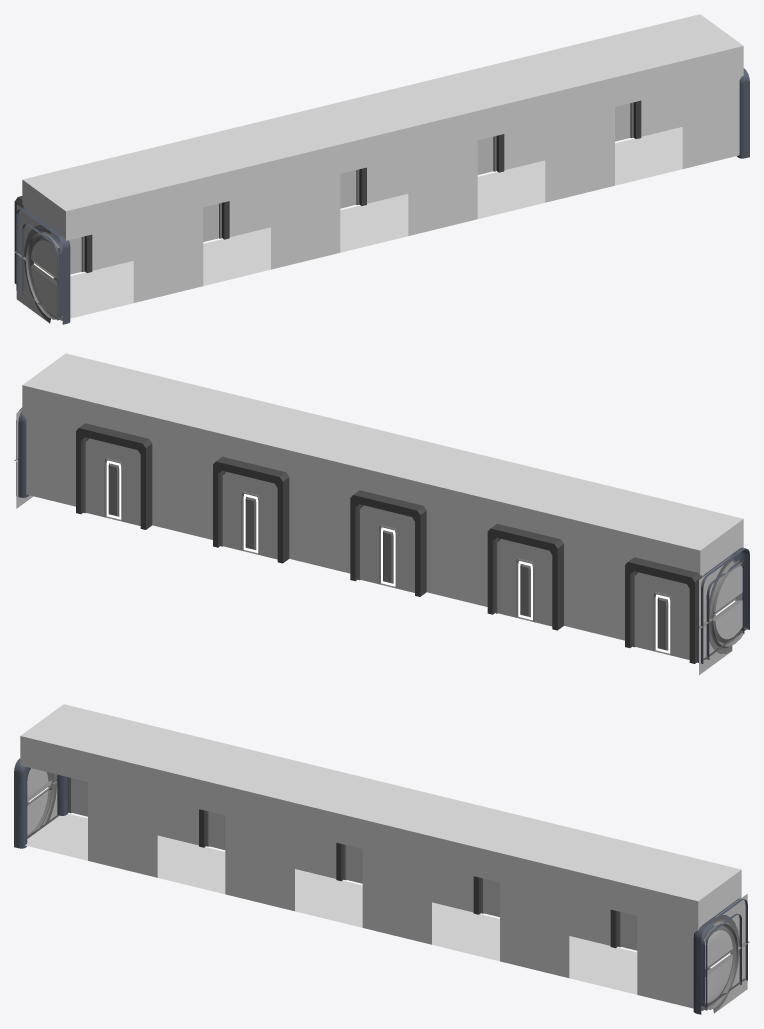
Rendered from Hall_03_Group.fbx.
3 renders of one model, top to bottom at view 1: azimuth 30°, elevation 25°; view 2: azimuth 150°, elevation 25°; view 3: azimuth 330°, elevation 25°, orthographic.
Visible parts, largest first — view 1: polySurface623, Hall_03, Hall_Door (×5), Door_Frame (×2), Door_01, Door_02, Hall_Door_Frame, Door_03; view 2: polySurface623, Hall_Door (×5), Hall_Door_Frame (×5), Door_Frame (×2), Door_01, Door_02, Door_03; view 3: polySurface623, Hall_03, Door_Frame (×2), Door_01 (×2), Hall_Door (×5), Door_02, Door_03.
Part boxes in pixels (x1=…): polySurface623: x1=22, y1=14, x2=743, y2=302; Hall_03: x1=18, y1=127, x2=682, y2=320; Hall_Door (×5): x1=69, y1=102, x2=633, y2=274; Door_Frame (×2): x1=16, y1=68, x2=749, y2=324; Door_01: x1=26, y1=233, x2=60, y2=319; Door_02: x1=14, y1=204, x2=50, y2=260; Hall_Door_Frame: x1=14, y1=196, x2=92, y2=283; Door_03: x1=15, y1=252, x2=50, y2=323; polySurface623: x1=22, y1=353, x2=743, y2=640; Hall_Door (×5): x1=83, y1=437, x2=689, y2=659; Hall_Door_Frame (×5): x1=76, y1=423, x2=702, y2=663; Door_Frame (×2): x1=16, y1=407, x2=749, y2=663; Door_01: x1=713, y1=560, x2=744, y2=646; Door_02: x1=699, y1=556, x2=734, y2=628; Door_03: x1=699, y1=620, x2=733, y2=674; polySurface623: x1=20, y1=704, x2=741, y2=1008; Hall_03: x1=25, y1=813, x2=745, y2=1010; Door_Frame (×2): x1=14, y1=758, x2=747, y2=1014; Door_01 (×2): x1=27, y1=768, x2=737, y2=1009; Hall_Door (×5): x1=69, y1=777, x2=637, y2=950; Door_02: x1=713, y1=894, x2=749, y2=950; Door_03: x1=713, y1=944, x2=747, y2=1013.
Bounding box in the file's own units: 7301 × 1235 × 949.
